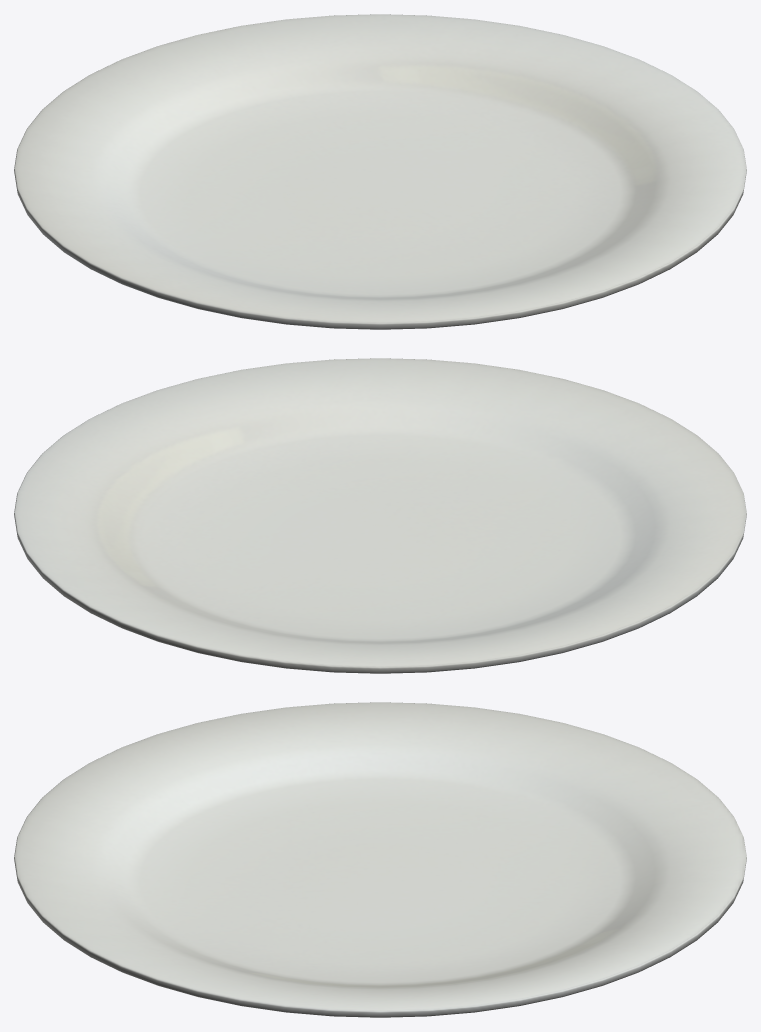
The model's file is dish_s.dae.
The picture shows the model from 3 angles, top to bottom: view 1: azimuth 30°, elevation 25°; view 2: azimuth 150°, elevation 25°; view 3: azimuth 270°, elevation 25°; orthographic projection.
Parts seen in each view (by area): view 1: dish_s; view 2: dish_s; view 3: dish_s.
Part boxes in pixels (<box>): dish_s: <box>14,14,746,329</box>; dish_s: <box>14,358,746,673</box>; dish_s: <box>14,702,746,1017</box>.
Bounding box in the file's own units: 0.1329 × 0.00801 × 0.1329.
Materials: 1 (1 with a texture image).
